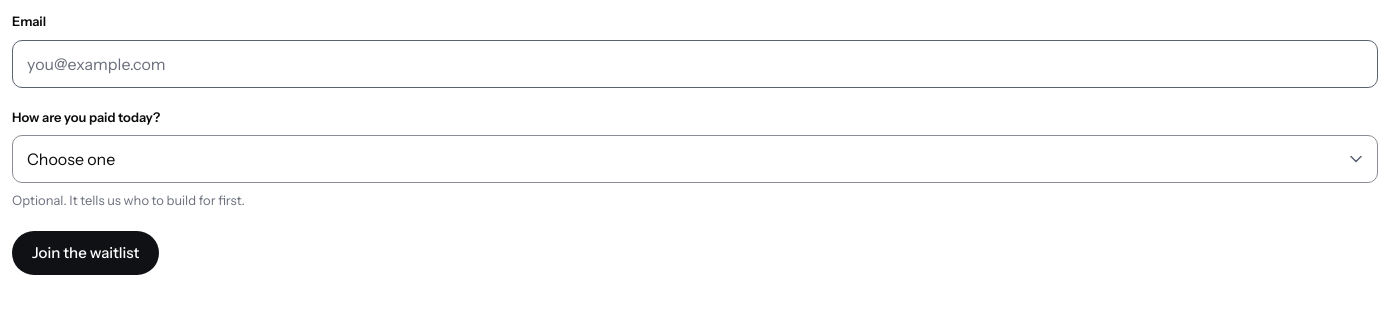
Test case: WaitlistForm › asks for a real email before sending anything
Type "ada" into the field labelled "Email" at x=695, y=64, box left=12, top=40, right=1378, bottom=88
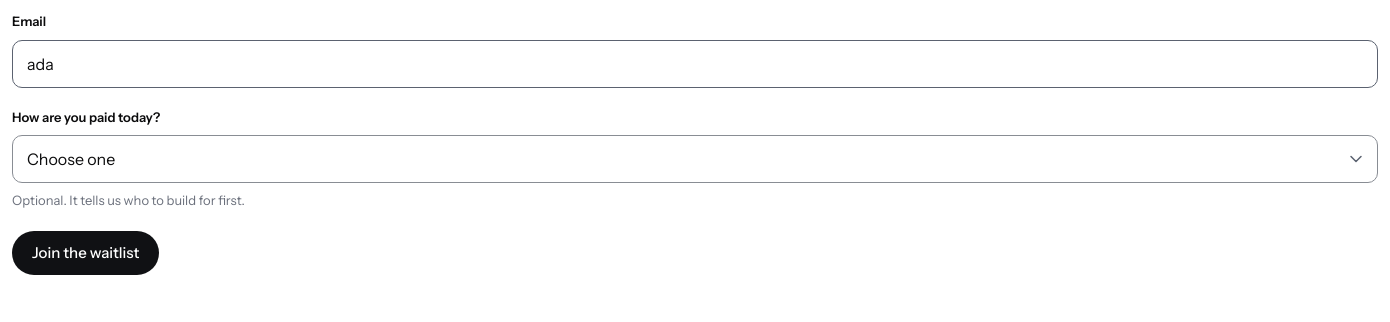
Click the button "Join the waitlist" at x=86, y=252, box left=12, top=230, right=159, bottom=274
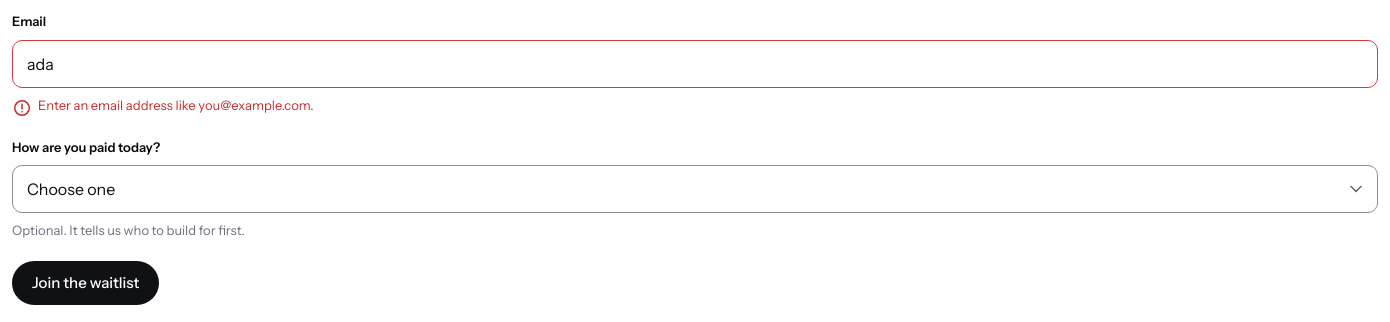
Expected: the text "Enter an email address like you@example.com." is shown, left=38, top=96, right=314, bottom=115
